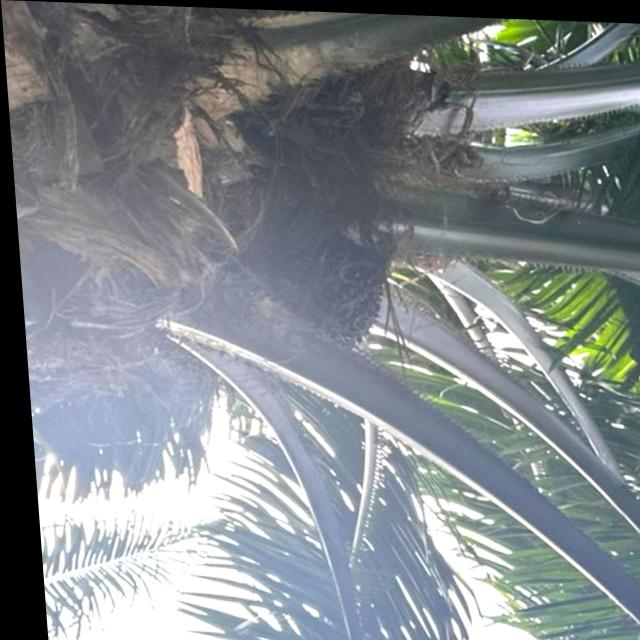unripe: (228, 222, 390, 355)
